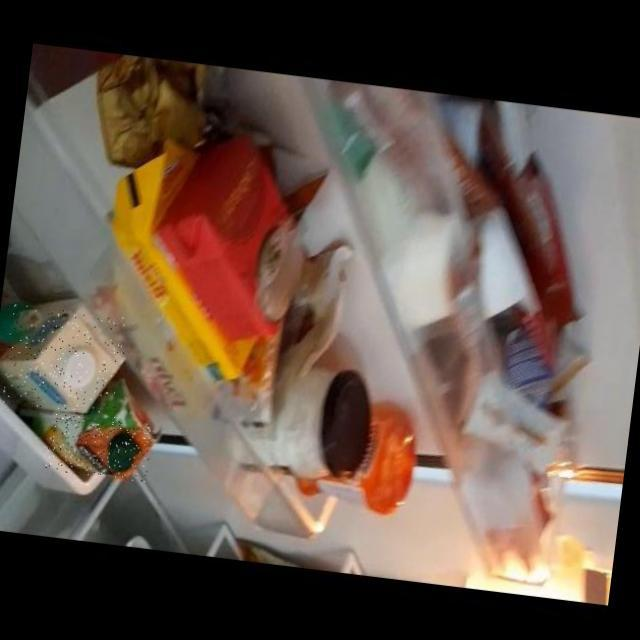juice: (44, 413, 152, 482)
milk: (0, 303, 126, 417)
